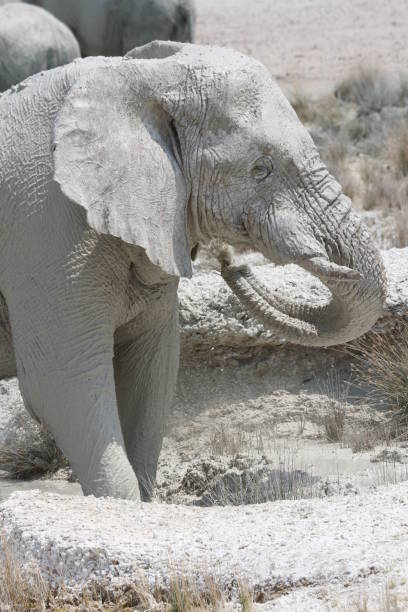africanelephant: (124, 46, 399, 390)
